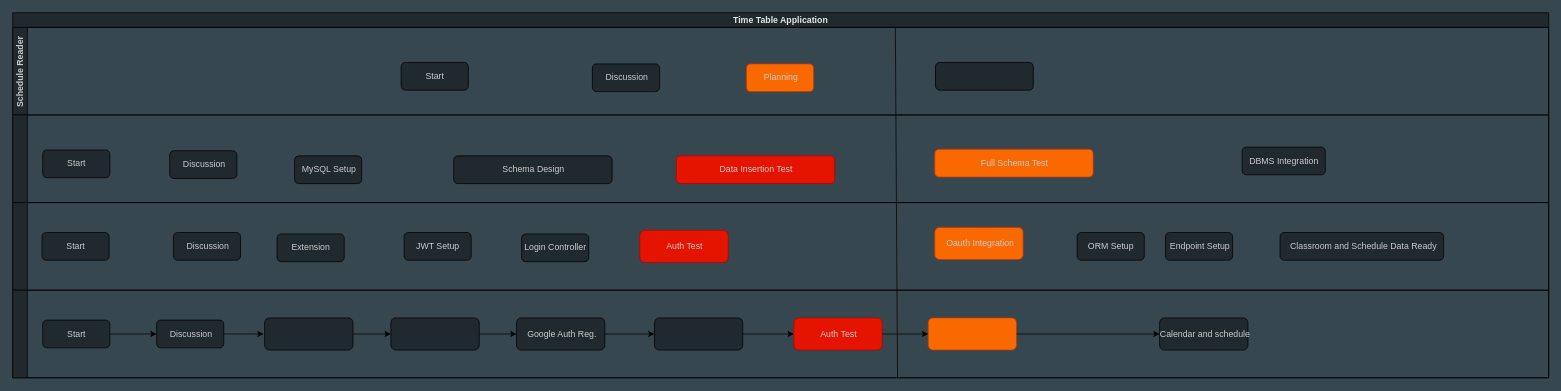
Some shapes in this 1561 by 391 pixel diagram are drawn without their labels. Each missing label, with the box of its shape:
Coding And Completeion: (935, 62, 1033, 90)
Database: (12, 114, 1549, 203)
Environment Setup: (264, 317, 353, 350)
Frontend: (12, 289, 1549, 378)
Google Auth Login: (654, 317, 743, 350)
Page View: (927, 317, 1017, 350)
Plugin Setup: (390, 317, 479, 350)
Server: (12, 202, 1549, 290)
